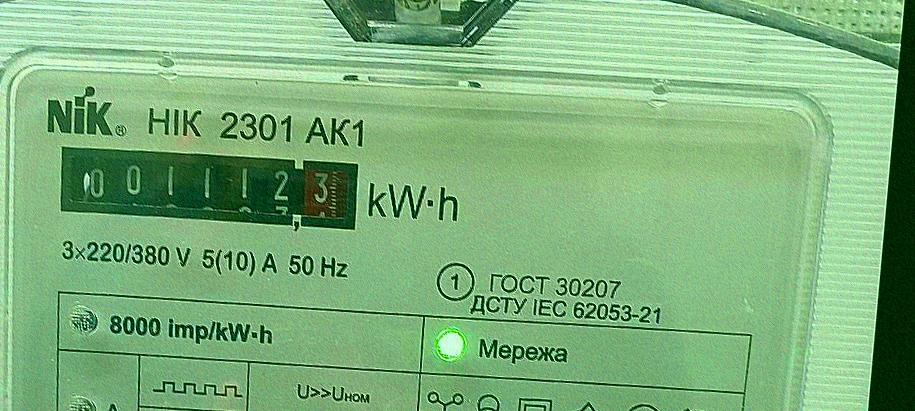0: (121, 160, 146, 200), (85, 164, 110, 201)
1: (160, 161, 181, 200), (198, 163, 215, 202), (236, 165, 253, 203)
2: (269, 167, 294, 205)
3: (310, 170, 331, 207)
screen: (49, 134, 368, 243)
